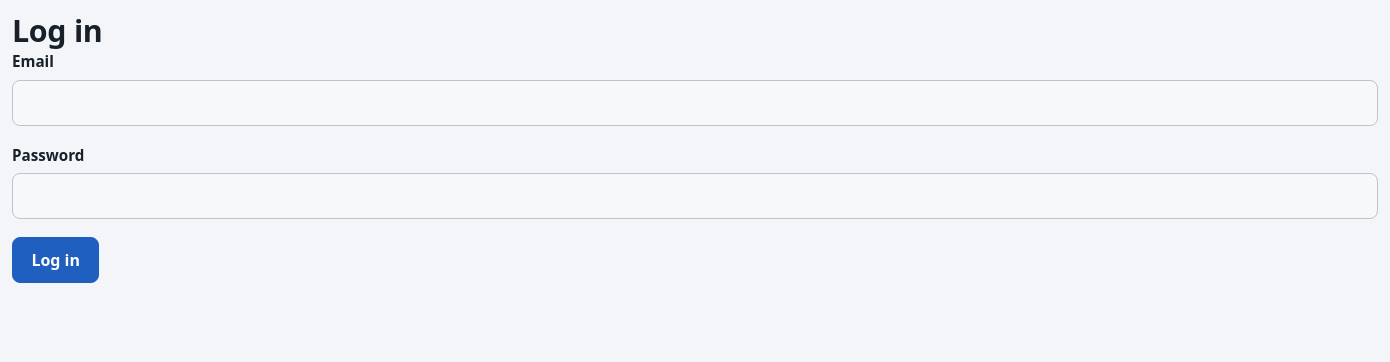
LoginForm › does not submit an empty form
Click the button "Log in". click: (56, 260)
box: x1=12 y1=237 x2=99 y2=283
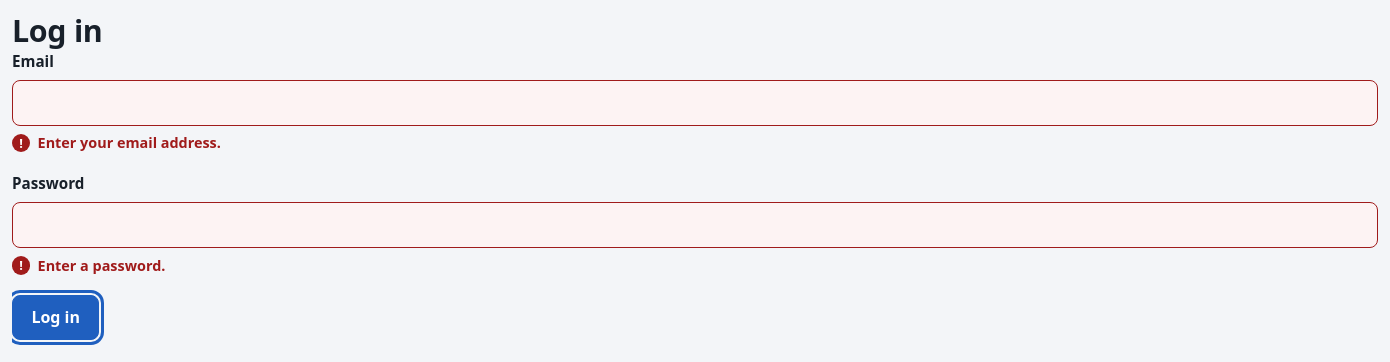
Now the text "Enter your email address." is shown, box x1=38 y1=133 x2=221 y2=152
